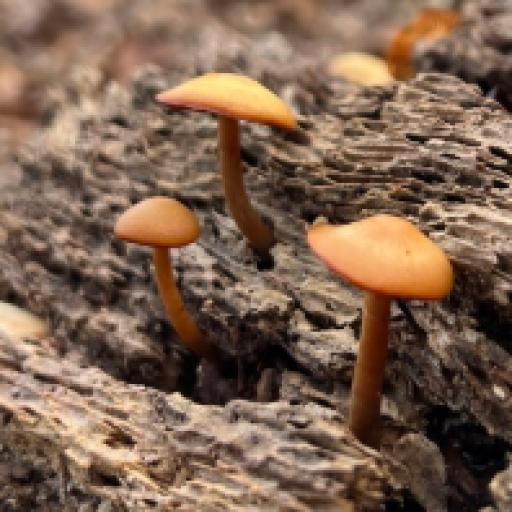mushroom: (292, 204, 454, 388), (150, 50, 308, 191), (107, 190, 224, 335)
